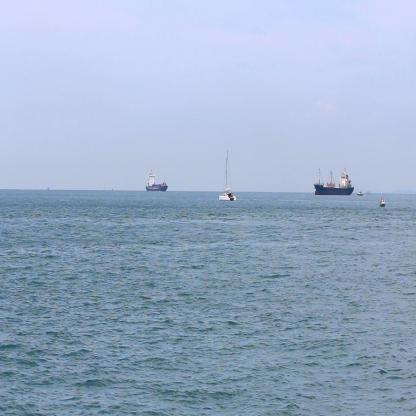Container Ship: (314, 168, 355, 196), (145, 168, 168, 192)
